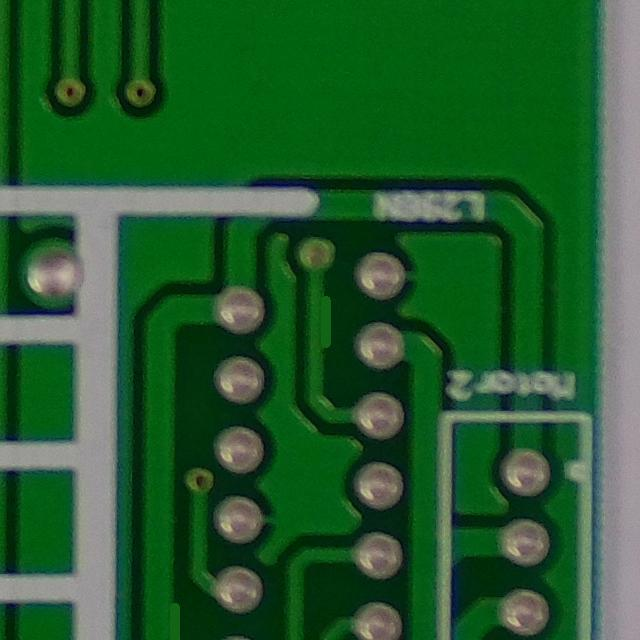spur: (292, 283, 348, 357)
